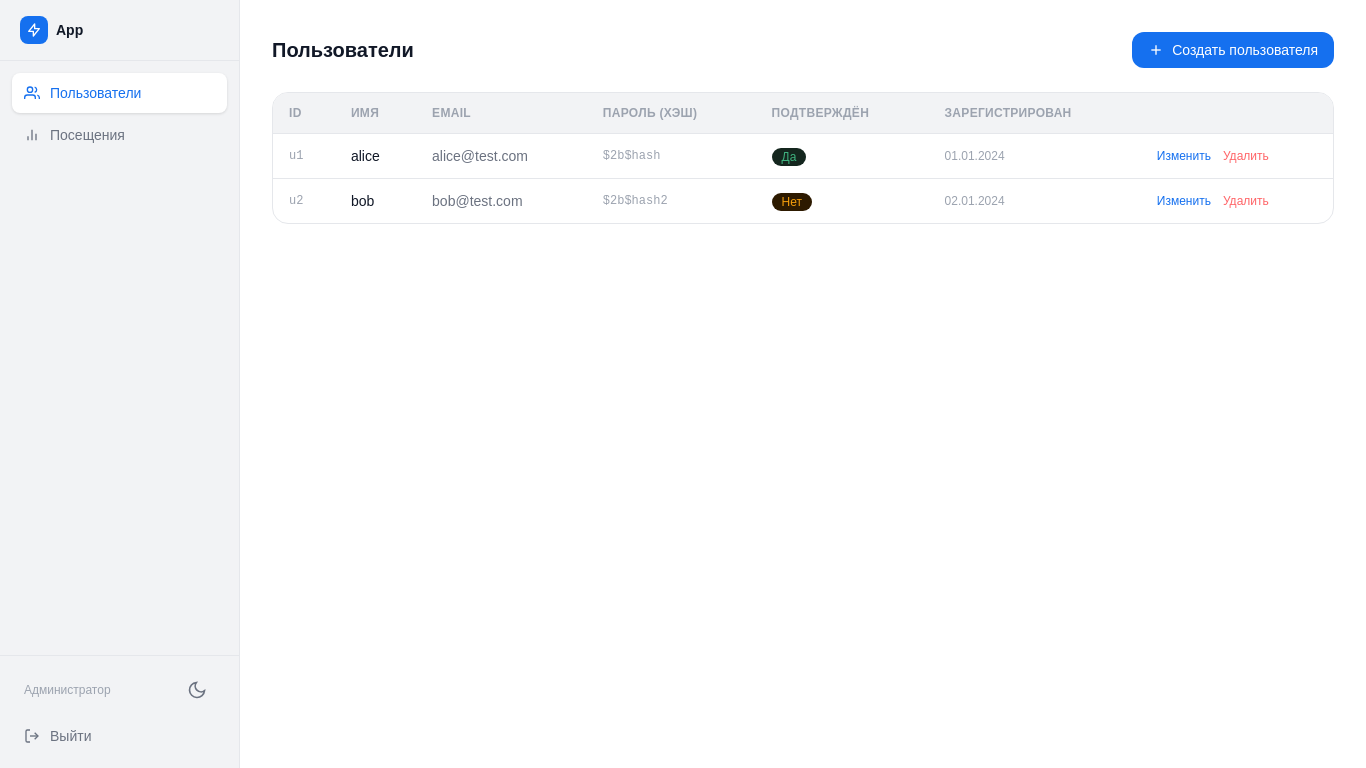
Test: AdminPage — панель управления › клик «Изменить» открывает модал редактирования с данными пользователя
The width and height of the screenshot is (1366, 768).
Expected: the text "alice" is shown, [335,134,416,178]
Click the button "Изменить" in the row of "u1".
click(1184, 156)  # box [1157,148,1211,164]
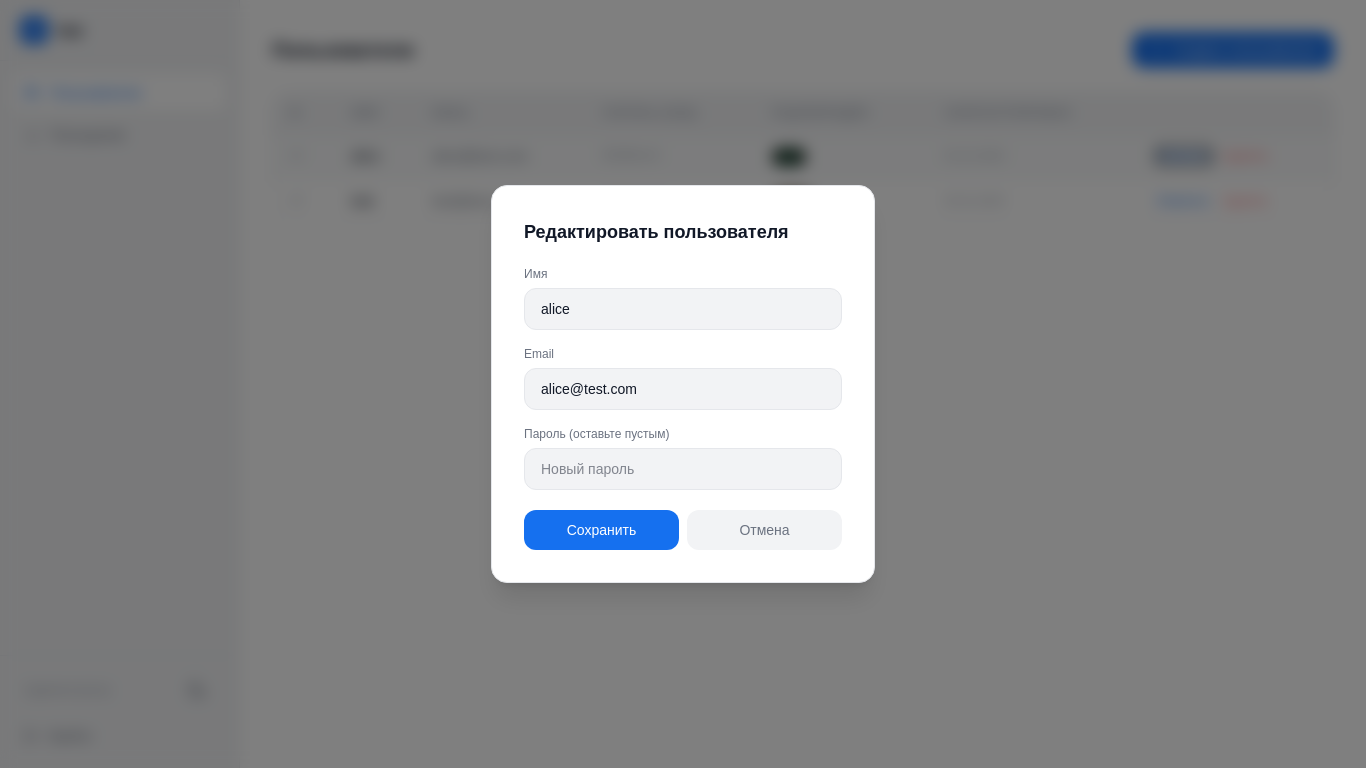
Now the heading "Редактировать пользователя" is shown, box [524,222,789,242]
Now the 1st field showing "alice" is shown, box [524,288,842,330]
